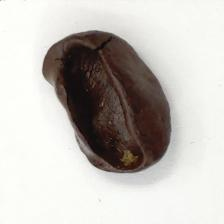NG: (56, 86, 140, 136), (45, 49, 123, 84), (80, 139, 148, 173)
